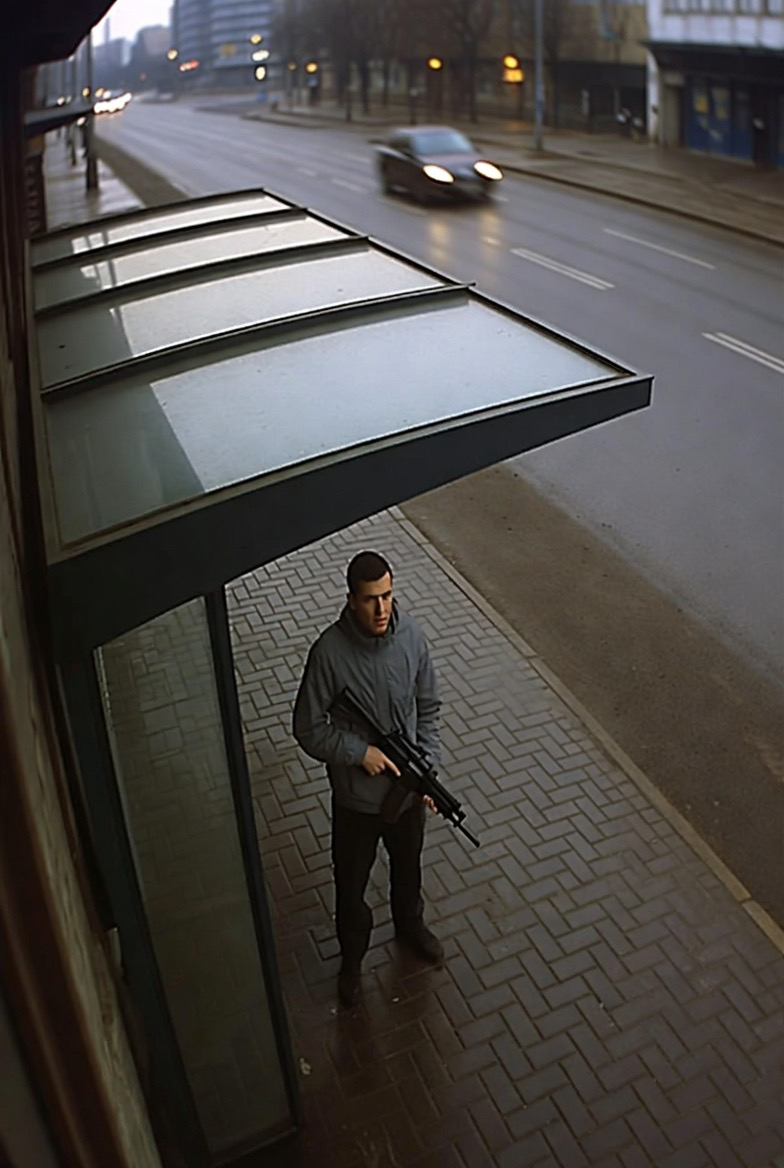person: (292, 550, 446, 1007)
weapon: (327, 686, 481, 849)
